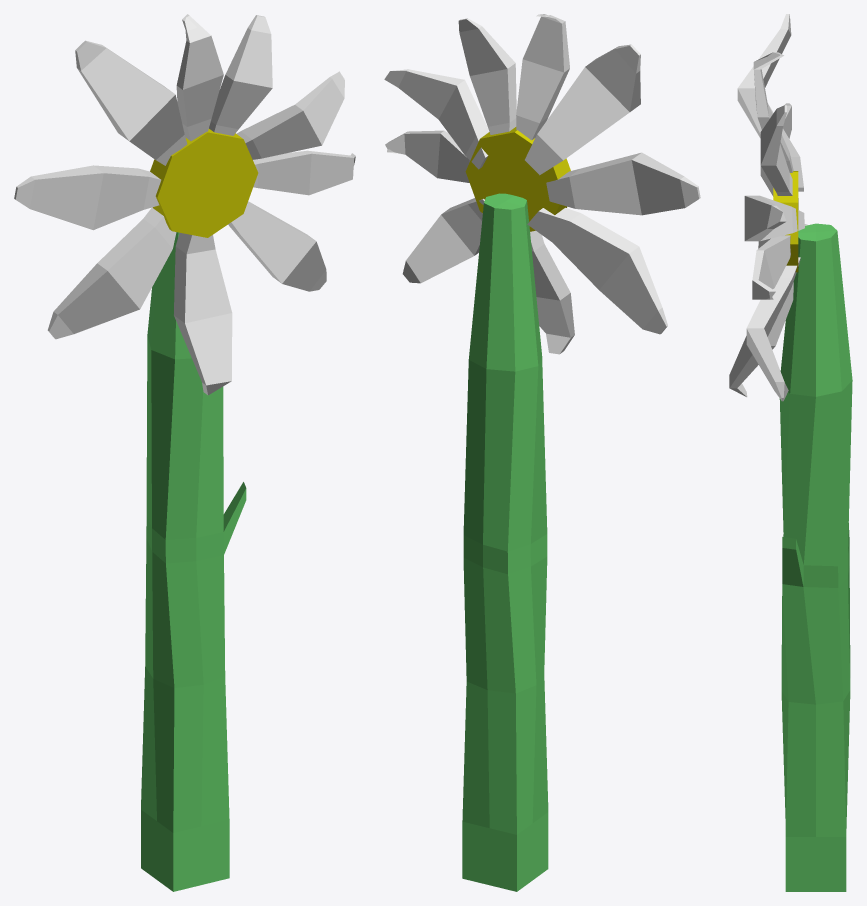
The model's file is Flower.fbx.
3 renders of one model, left to right at view 1: azimuth 30°, elevation 25°; view 2: azimuth 150°, elevation 25°; view 3: azimuth 270°, elevation 25°, orthographic. The views are drawn at different scales.
Parts seen in each view (by area): view 1: Flower; view 2: Flower; view 3: Flower.
Boxes of the visible parts, bbox=[...] form: Flower: bbox=[14, 14, 355, 891]; Flower: bbox=[384, 14, 700, 891]; Flower: bbox=[729, 14, 852, 891].
Bounding box in the file's own units: 15.44 × 39.01 × 5.33.
